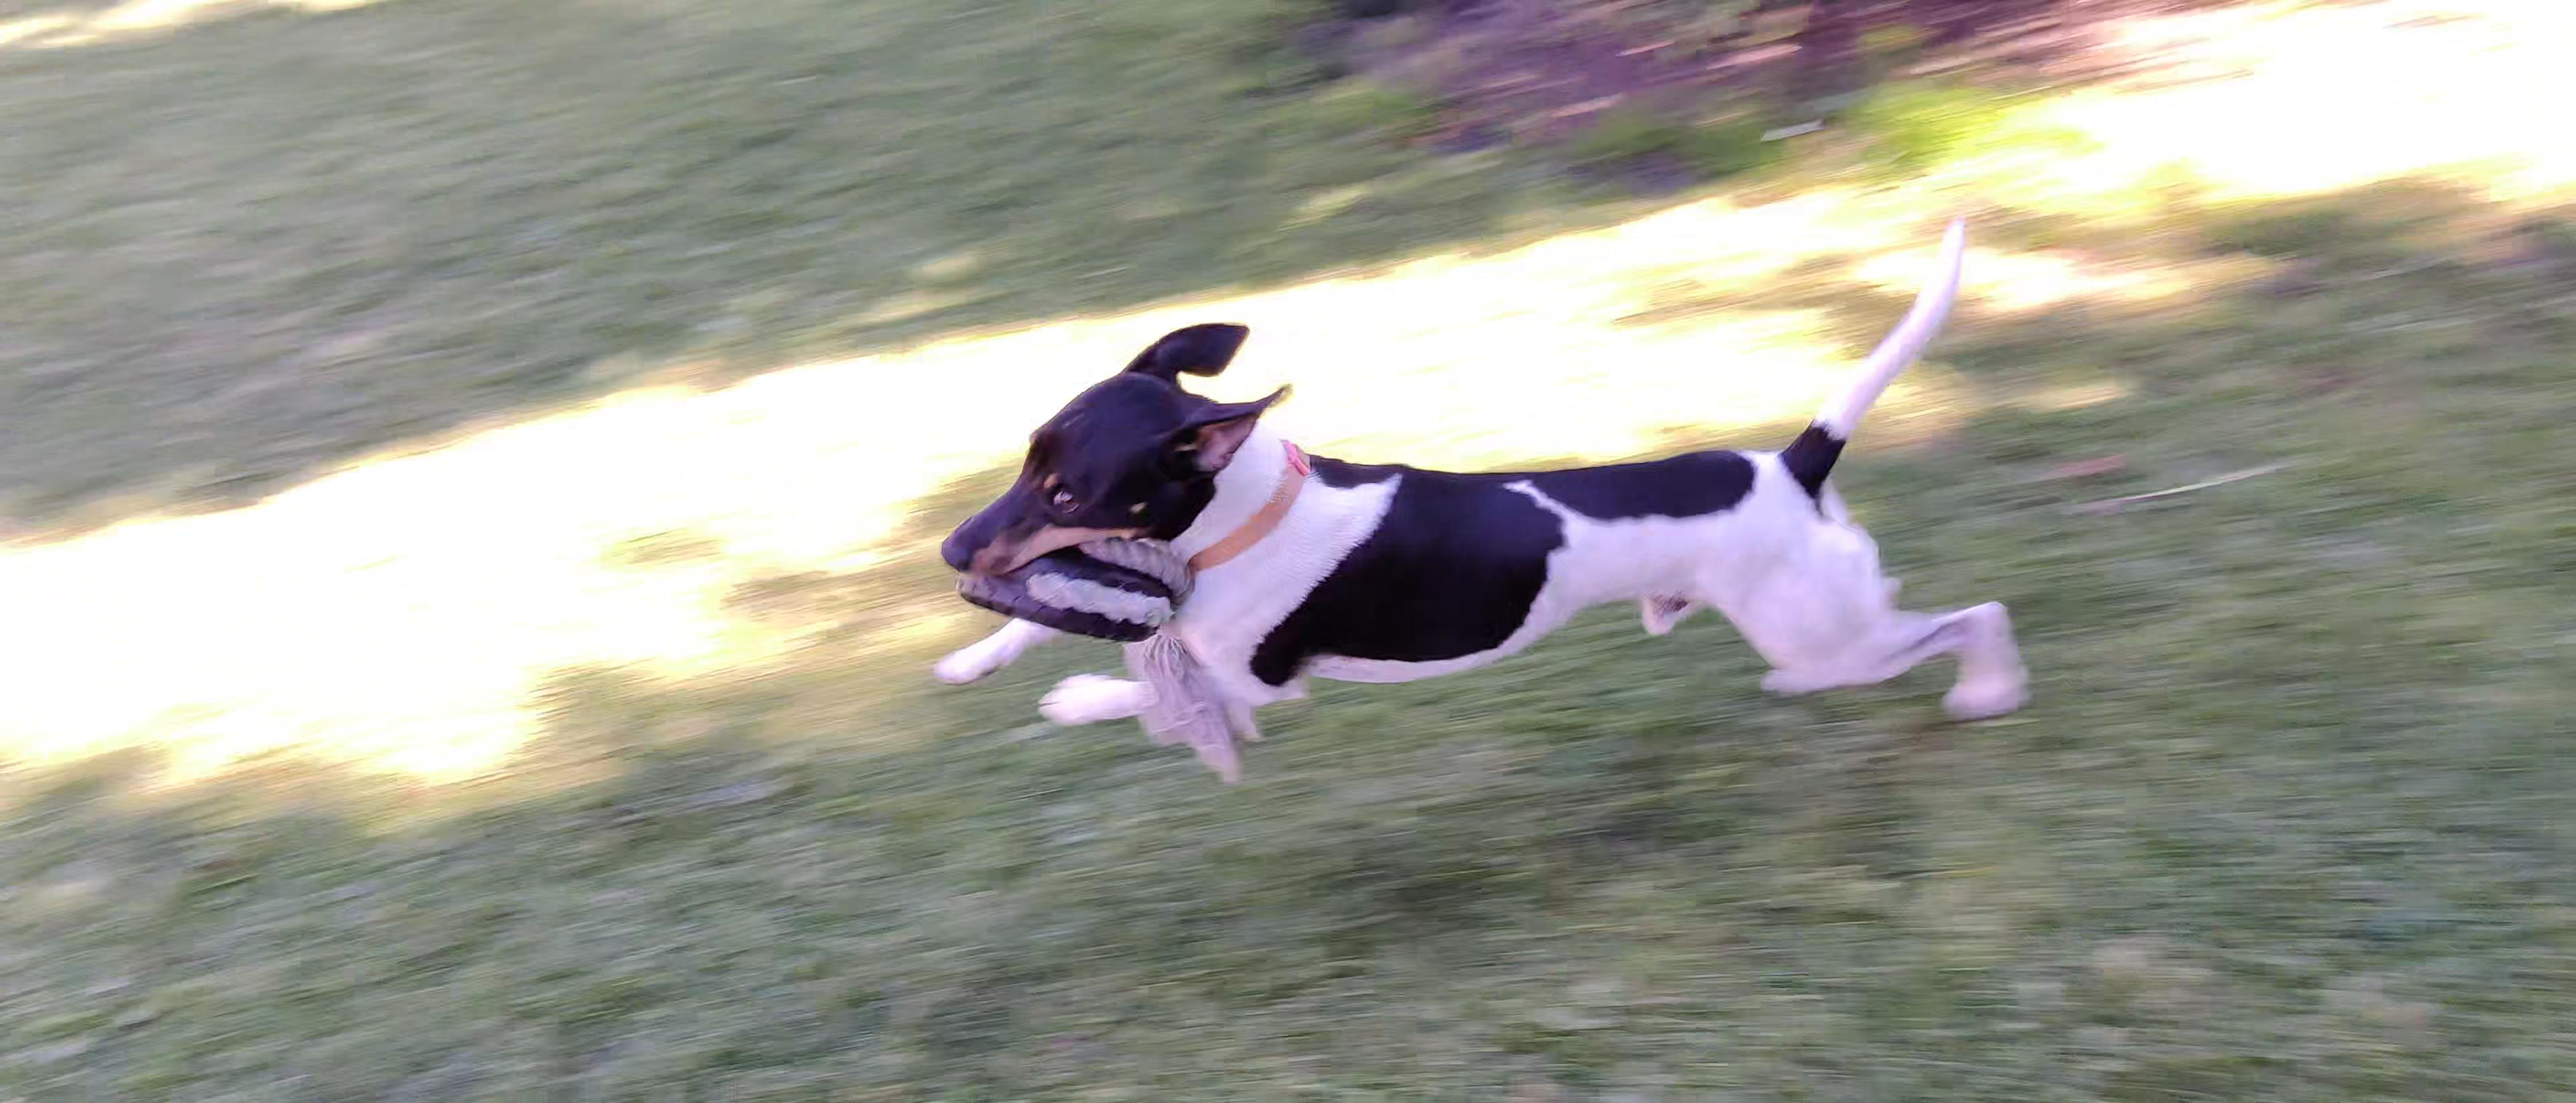Dog: (885, 205, 2080, 766)
